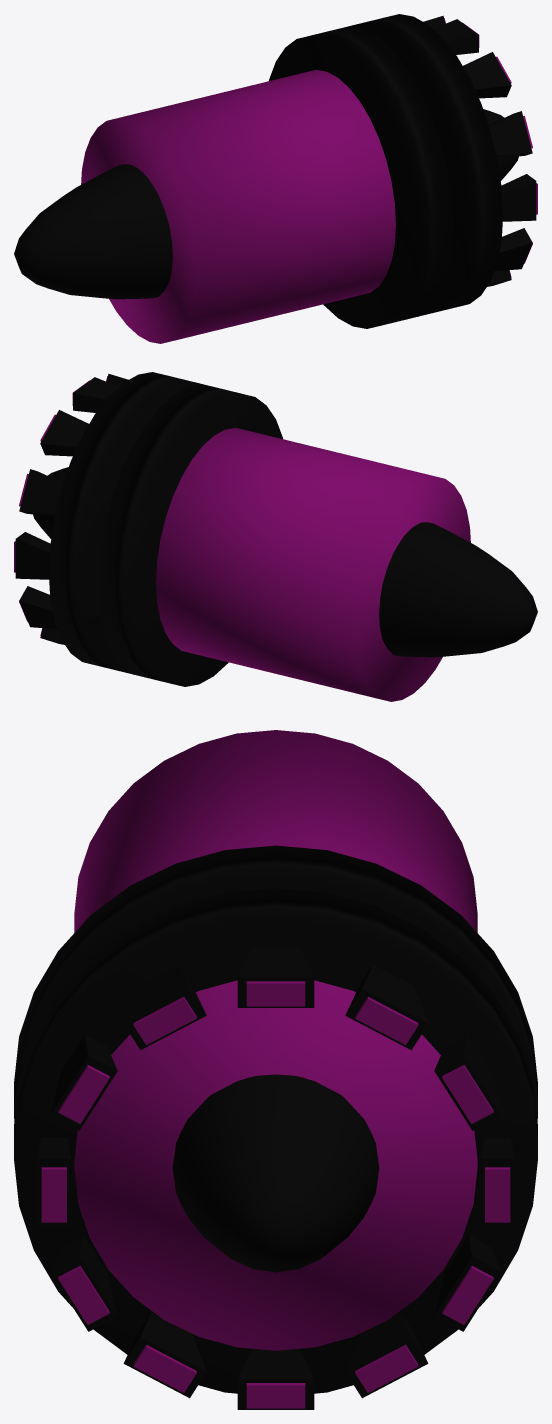
The model's file is SpaceshipThruster.glb.
3 views of the same model, one above another, from view 1: azimuth 30°, elevation 25°; view 2: azimuth 150°, elevation 25°; view 3: azimuth 270°, elevation 25° (orthographic). The views are drawn at different scales.
Parts seen in each view (by area): view 1: MainCylinder, Cylinder.002, Sphere, FanHolder, Cube.010, Cube.012, Cube.011, Cube.009, Cube.001; view 2: MainCylinder, Cylinder.002, Sphere, FanHolder, Cube.004, Cube.002, Cube.003, Cube.005, Cube.001; view 3: MainCylinder, FanHolder, Sphere, Cylinder.002, Cube.001, Cube.007, Cube.002, Cube.012, Cube.006, Cube.008, Cube.003, Cube.011 (+4 smaller).
Part boxes in pixels (x1,y1,x2,y2): MainCylinder: (81,69,395,343); Cylinder.002: (269,26,453,328); Sphere: (14,109,518,299); FanHolder: (349,14,502,315); Cube.010: (501,174,537,221); Cube.012: (463,52,511,98); Cube.011: (489,111,532,156); Cube.009: (494,228,532,271); Cube.001: (433,19,479,54); MainCylinder: (156,427,470,701); Cylinder.002: (98,384,282,686); Sphere: (33,467,537,657); FanHolder: (49,372,202,673); Cube.004: (14,532,50,579); Cube.002: (40,410,88,456); Cube.003: (19,469,62,514); Cube.005: (19,586,57,629); Cube.001: (72,377,118,412); MainCylinder: (74,730,477,1350); FanHolder: (14,888,537,1393); Sphere: (172,1074,379,1272); Cylinder.002: (14,845,537,1120); Cube.001: (237,947,314,1007); Cube.007: (237,1348,314,1409); Cube.002: (345,965,428,1050); Cube.012: (123,965,206,1050); Cube.006: (345,1313,428,1398); Cube.008: (123,1313,206,1398); Cube.003: (434,1034,501,1130); Cube.011: (50,1034,117,1130).
Bounding box in the file's own units: 5.03 × 2.6 × 2.6.
